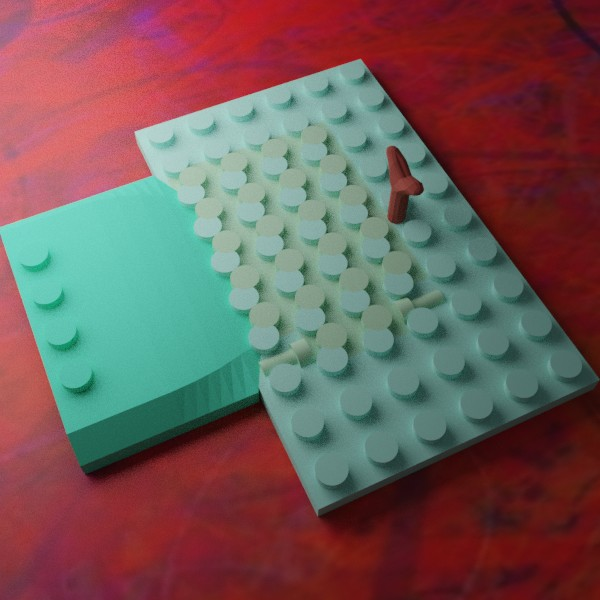lego: (134, 58, 599, 516), (0, 175, 262, 474), (165, 120, 445, 381), (385, 145, 424, 235)
